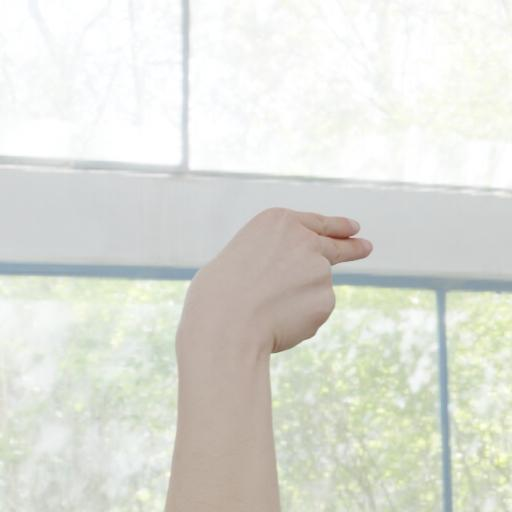H: (159, 199, 382, 373)
